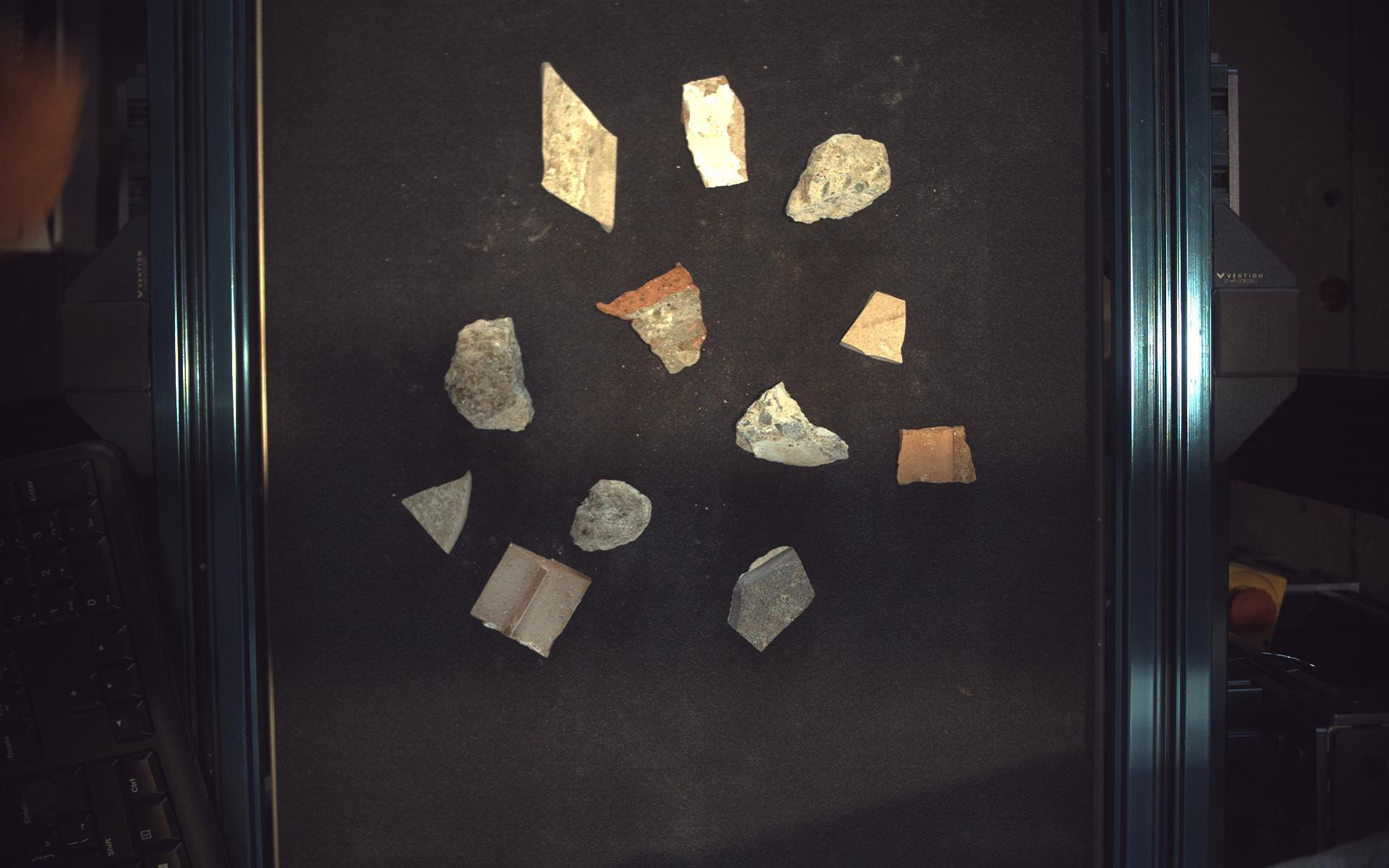brick: (472, 544, 591, 658), (597, 263, 708, 374), (683, 75, 749, 187), (899, 426, 978, 485)
concrete: (445, 317, 535, 432), (737, 383, 850, 467), (788, 132, 893, 222), (571, 480, 653, 552)
tile: (542, 61, 618, 231), (729, 545, 816, 652), (401, 471, 472, 554), (842, 291, 908, 363)
